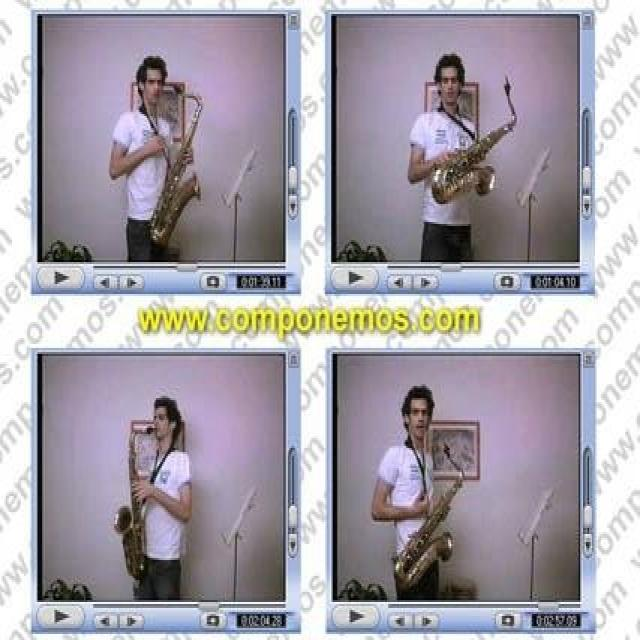saxophone: (430, 75, 521, 208), (391, 444, 466, 596), (148, 86, 206, 244), (114, 419, 158, 584)
